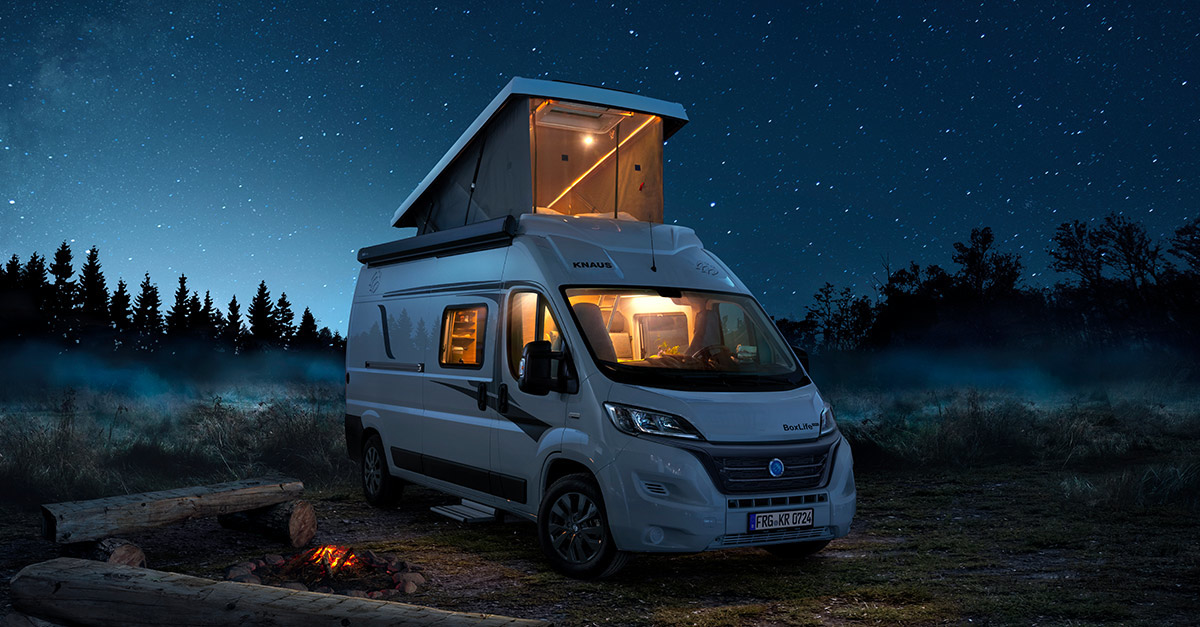van: (339, 73, 859, 573)
